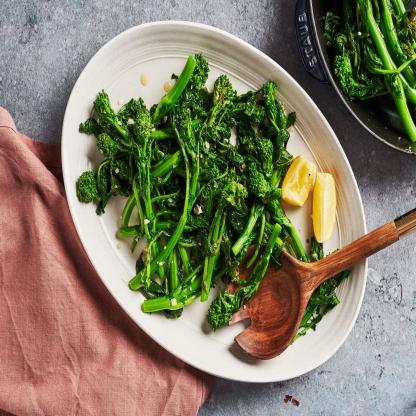broccoli: (74, 50, 350, 340), (320, 0, 415, 143)
